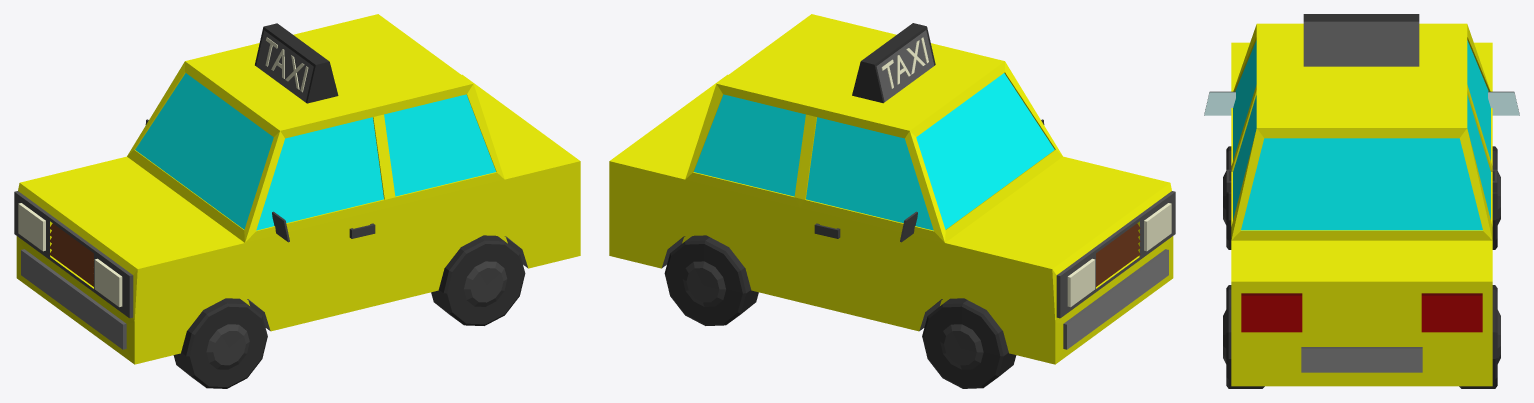
File: taxiCar.glb
3 renders of one model, left to right at view 1: azimuth 30°, elevation 25°; view 2: azimuth 150°, elevation 25°; view 3: azimuth 270°, elevation 25°, orthographic. The views are drawn at different scales.
Parts seen in each view (by area): view 1: Taxi; view 2: Taxi; view 3: Taxi.
Part boxes in pixels (<box>): Taxi: <box>14,14,580,388</box>; Taxi: <box>609,14,1175,388</box>; Taxi: <box>1204,14,1519,388</box>.
Bounding box in the file's own units: 3.35 × 1.89 × 1.81.
1 material, 1 textured.
